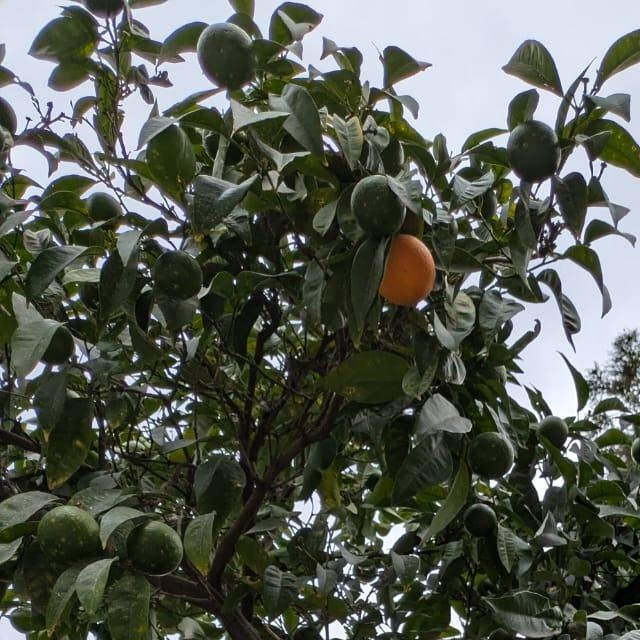orange: (368, 226, 440, 310), (33, 501, 109, 565), (120, 515, 184, 587), (502, 113, 566, 183), (194, 20, 254, 94), (348, 173, 404, 235), (467, 430, 517, 482), (153, 252, 203, 302), (36, 321, 76, 367), (80, 190, 120, 228), (466, 499, 500, 537), (537, 414, 571, 448), (290, 623, 324, 640), (631, 433, 640, 465)
